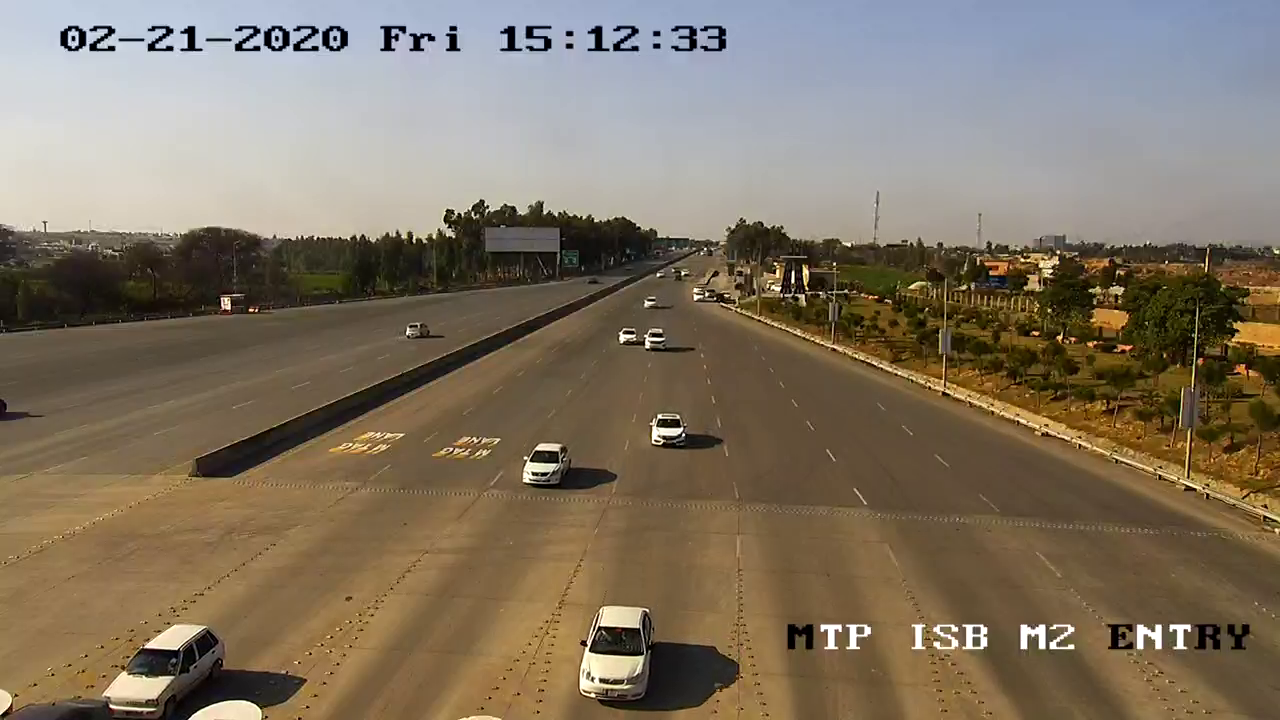f1: (573, 597, 665, 710), (517, 437, 575, 494), (647, 406, 692, 454)
